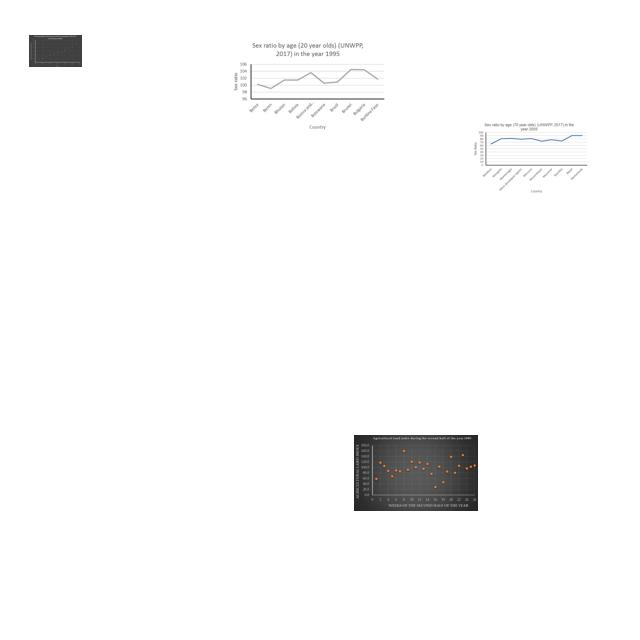Graph: (229, 38, 387, 134), (354, 435, 478, 511), (471, 122, 589, 193), (29, 35, 82, 67)
